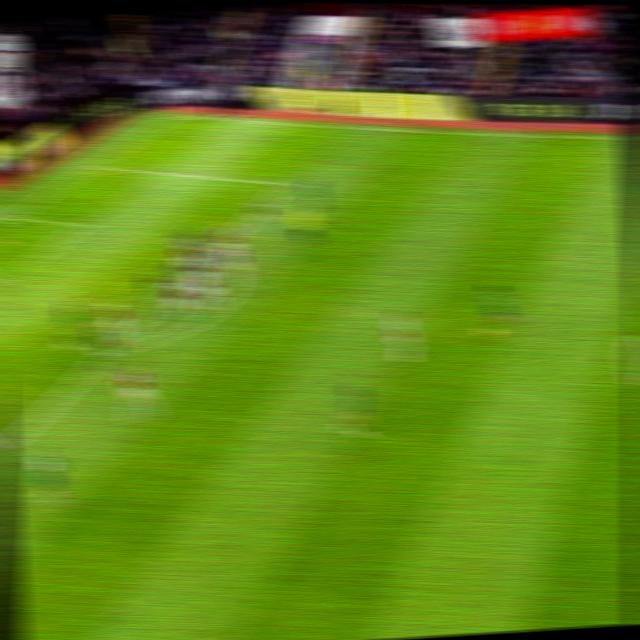bigarea_top_inner: (273, 172, 301, 192)
bigarea_top_outter: (81, 157, 107, 174)
bottom_arc_area_intersection: (91, 342, 119, 362)
corner: (158, 107, 187, 121)
smallarea_top_inner: (69, 212, 96, 233)
smallarea_top_outter: (0, 206, 26, 223)
top_arc_area_intersection: (204, 239, 231, 256)
